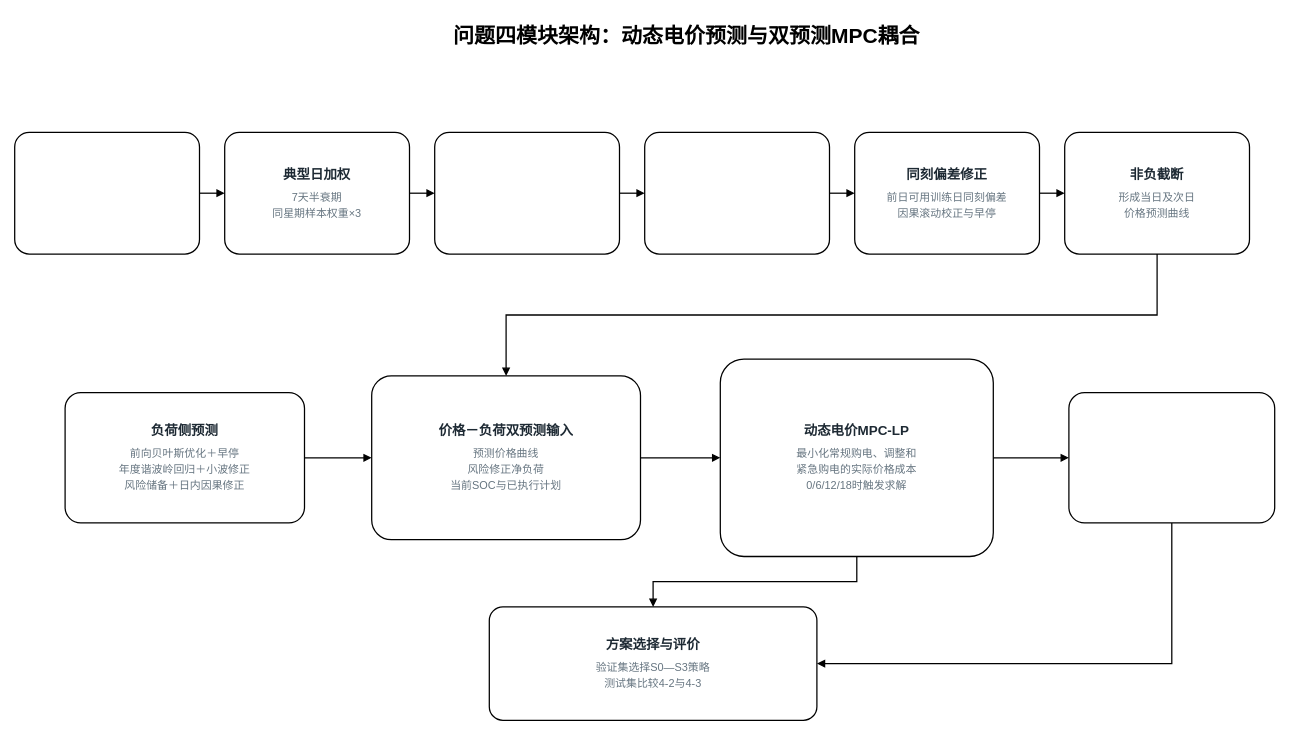
This 1290x735 diagram has some shape labels left out. Each missing label, with the centre of its shape:
"傅里叶拟合 提取日周期价格规律 傅里叶阶数由寻优确定" goes at (527,192).
"历史实时电价 仅使用预测日前训练样本 参数化历史窗口，严格前向" goes at (107,192).
"小波残差重构 补偿局部时段结构 小波阶数由寻优确定 正式方案不使用Hampel" goes at (737,192).
"输出与评价 动态购电计划 成本、应急量 MAE/RMSE/修正MAPE" goes at (1171,457).
